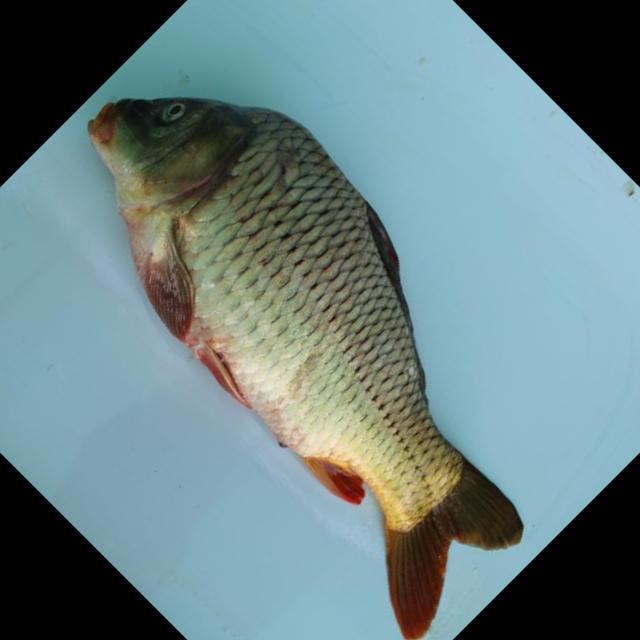CommonCarp: (66, 83, 545, 630)
